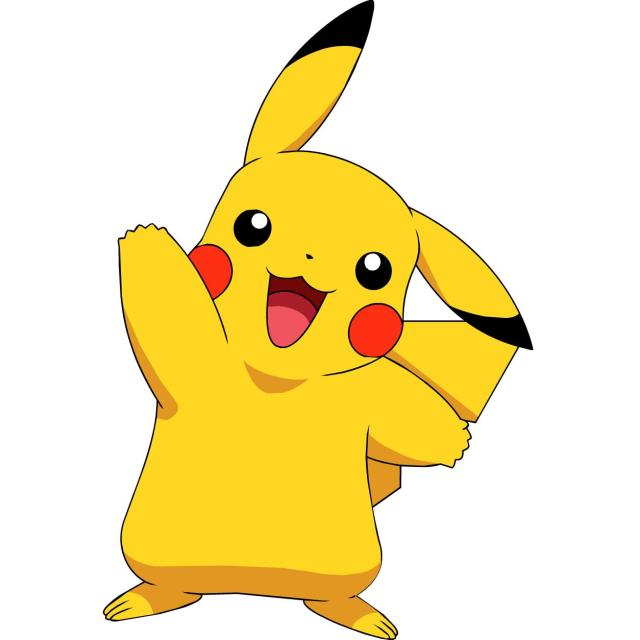pikachu: (100, 0, 531, 640)
